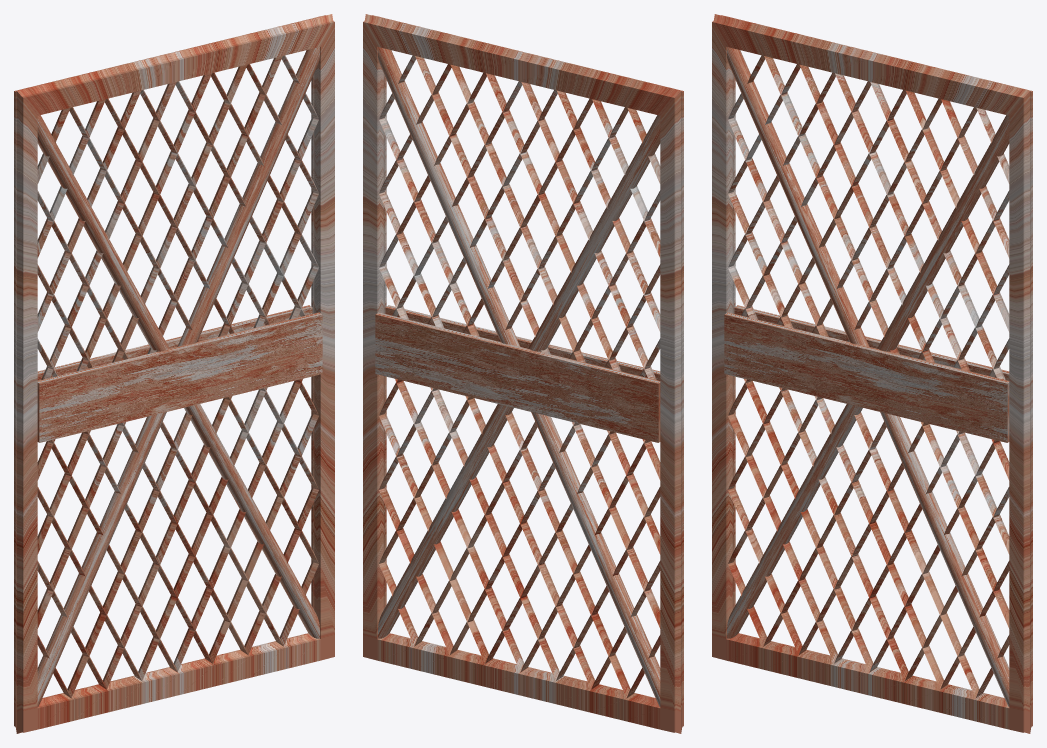
Rendered from FenceGateModel.fbx.
3 views of the same model, side by side, from view 1: azimuth 30°, elevation 25°; view 2: azimuth 150°, elevation 25°; view 3: azimuth 330°, elevation 25° (orthographic).
Parts seen in each view (by area): view 1: MetalFence, FenceGurd_Back, FenceGurd_Forward; view 2: MetalFence, FenceGurd_Forward, FenceGurd_Back; view 3: MetalFence, FenceGurd_Back, FenceGurd_Forward.
Part boxes in pixels (<box>): MetalFence: <box>14,14,334,733</box>; FenceGurd_Back: <box>37,312,322,442</box>; FenceGurd_Forward: <box>37,305,312,380</box>; MetalFence: <box>363,14,683,733</box>; FenceGurd_Forward: <box>375,312,660,442</box>; FenceGurd_Back: <box>385,305,660,380</box>; MetalFence: <box>712,14,1032,733</box>; FenceGurd_Back: <box>724,312,1009,442</box>; FenceGurd_Forward: <box>734,305,1009,380</box>.
Size of the model in its own units: 111 by 217 by 8.
1 material, 1 textured.
